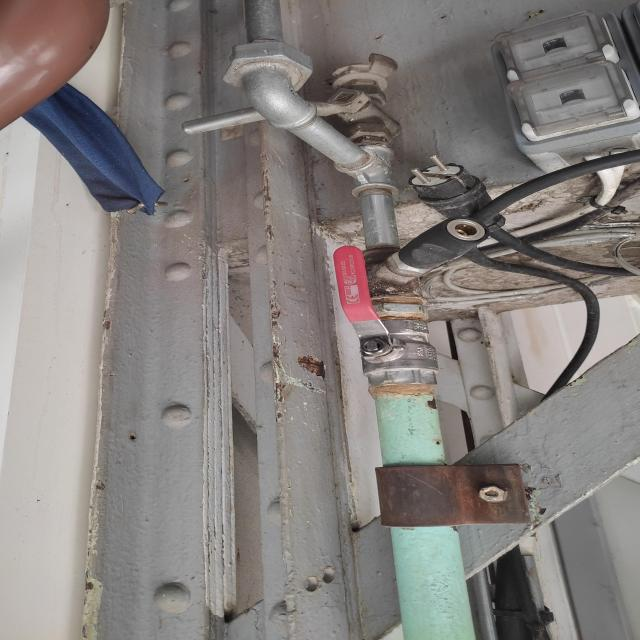opened_valve: (327, 244, 449, 390)
